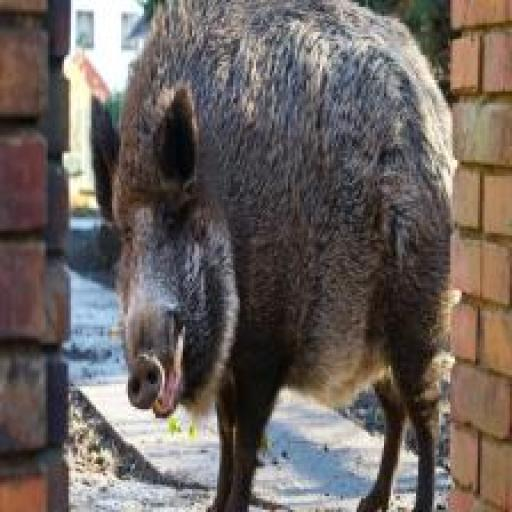Pig: (92, 0, 452, 512)
